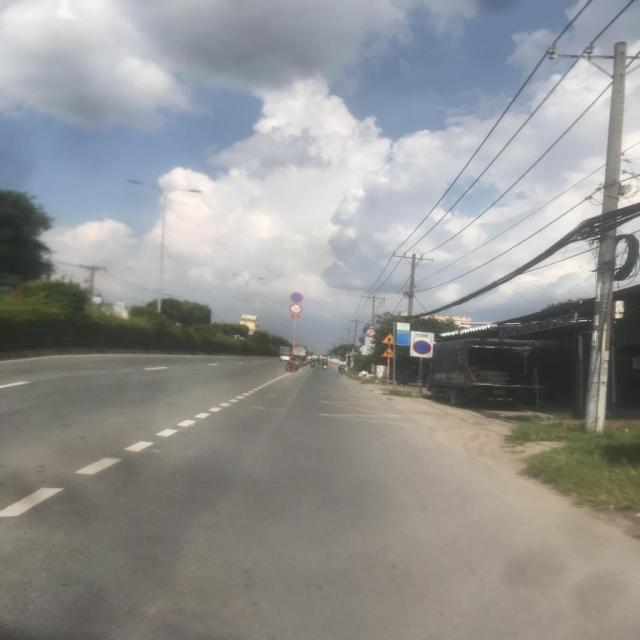cam_do_xe: (413, 340, 431, 354)
cam_dung_xe_va_do_xe: (290, 293, 303, 303)
cam_o_to_tai_va_xe_khach: (366, 328, 376, 337)
cam_xe_2_banh_va_xe_3_banh_co_dong_co: (289, 304, 303, 314)
chu_y_tre_em: (380, 346, 397, 358)
giao_nhau_voi_duong_khong_uu_tien: (381, 332, 397, 344)
